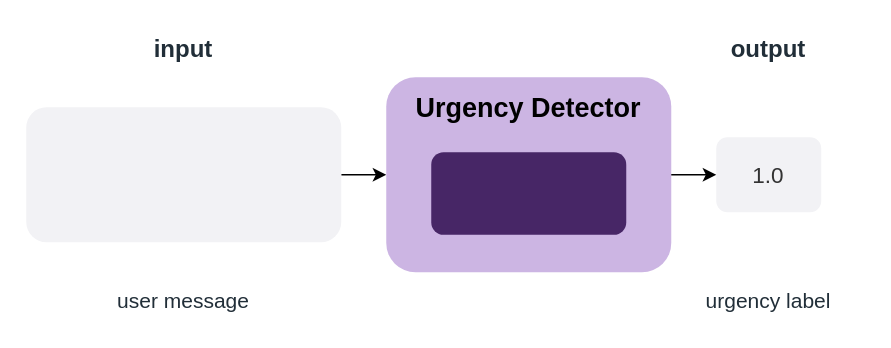
Some shapes in this 891 by 348 pixel diagram are drawn without their labels. The centre of each missing label's shape, as x and y in pixels:
"What medication do you recommend for a really bad headache and nausea?": point (183, 174)
urgency rules OR classifier: point (528, 193)
